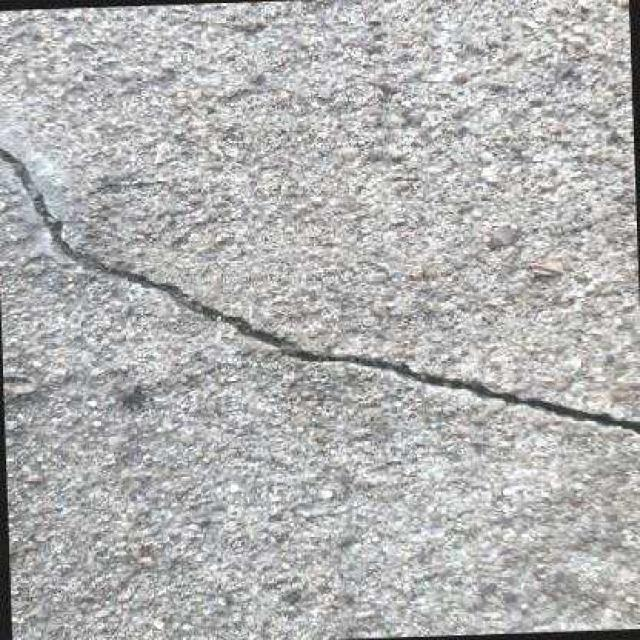D00: (0, 145, 640, 442)
